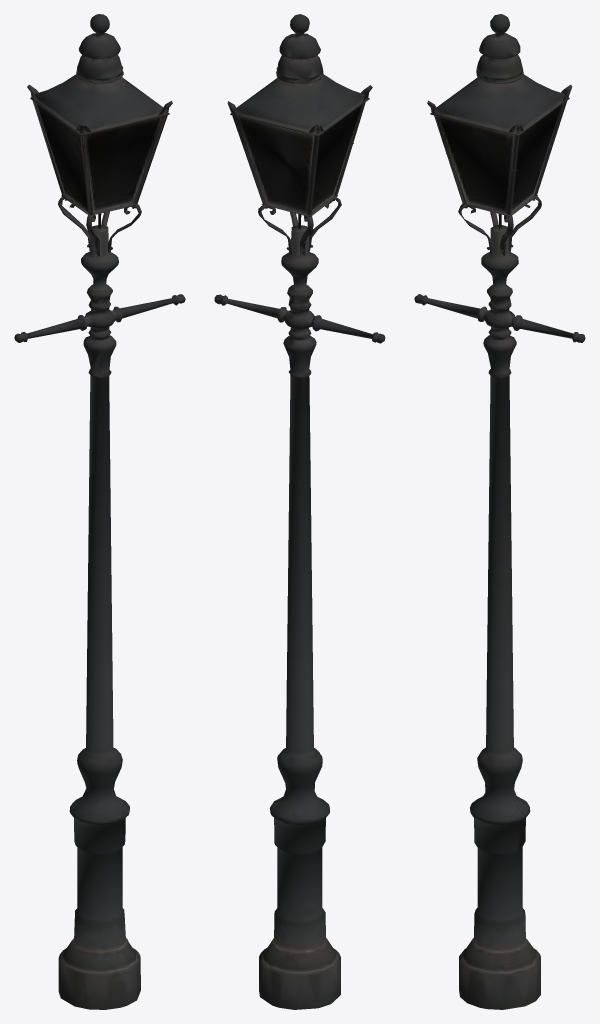
Rendered from street_lamp_01.glb.
The picture shows the model from 3 angles, left to right: view 1: azimuth 30°, elevation 25°; view 2: azimuth 150°, elevation 25°; view 3: azimuth 330°, elevation 25°; orthographic projection.
Visible parts, largest first — view 1: street_lamp_01; view 2: street_lamp_01; view 3: street_lamp_01.
Part boxes in pixels (left/top/right/bottom): street_lamp_01: left=14, top=14, right=185, bottom=1009; street_lamp_01: left=214, top=14, right=385, bottom=1009; street_lamp_01: left=414, top=14, right=585, bottom=1009.
Size of the model in its own units: 0.7031 by 3.87 by 0.3862.
2 materials, 2 textured.
